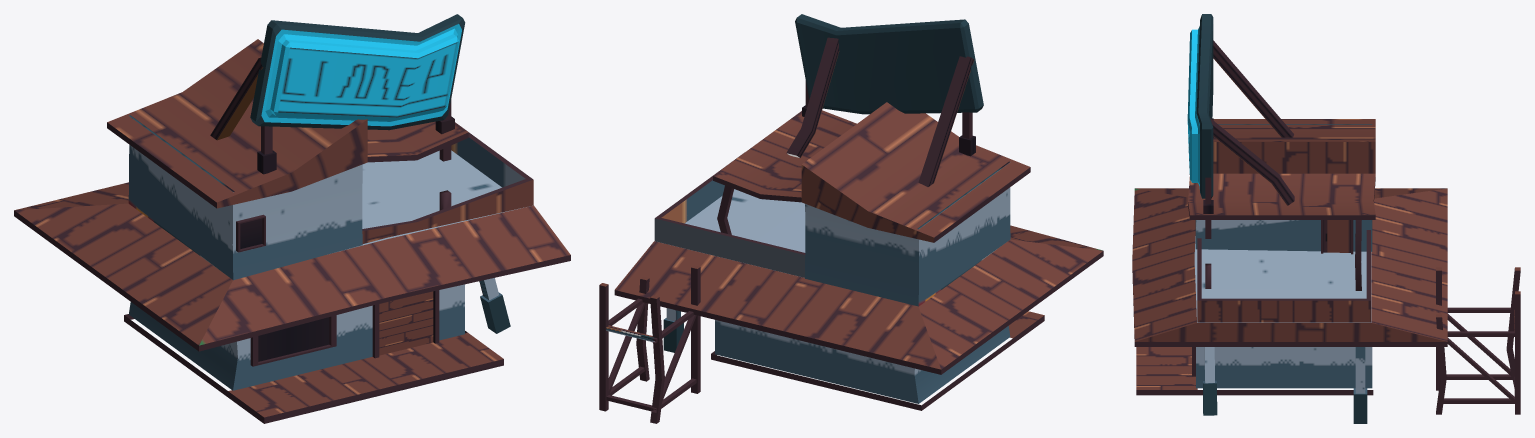
Rendered from BarDaLimeyQuebrado.fbx.
3 views of the same model, side by side, from view 1: azimuth 30°, elevation 25°; view 2: azimuth 150°, elevation 25°; view 3: azimuth 270°, elevation 25° (orthographic). The views are drawn at different scales.
Visible parts, largest first — view 1: Bar da Limey; view 2: Bar da Limey; view 3: Bar da Limey.
Boxes of the visible parts, x1=… form: Bar da Limey: x1=14, y1=14, x2=570, y2=423; Bar da Limey: x1=599, y1=14, x2=1103, y2=423; Bar da Limey: x1=1132, y1=14, x2=1520, y2=423.
Size of the model in its own units: 1204 by 1289 by 1129.
